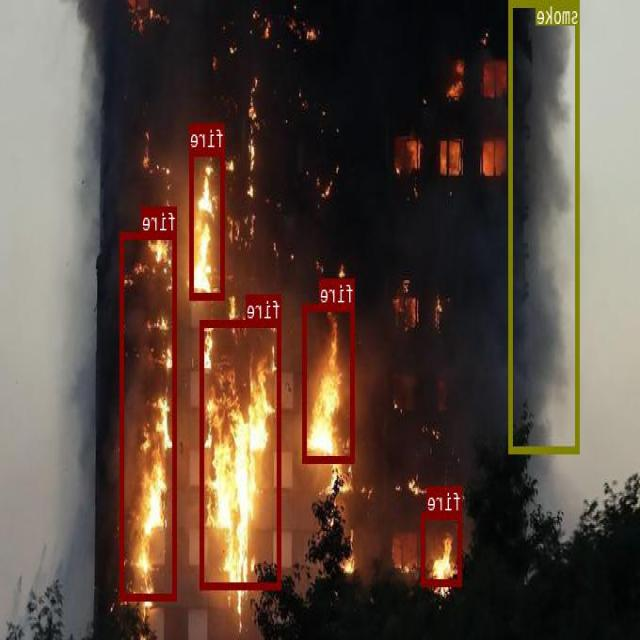fire: (200, 319, 282, 587), (121, 232, 178, 599), (304, 303, 355, 461), (190, 148, 226, 299), (422, 512, 463, 585)
smoke: (510, 0, 580, 453)
